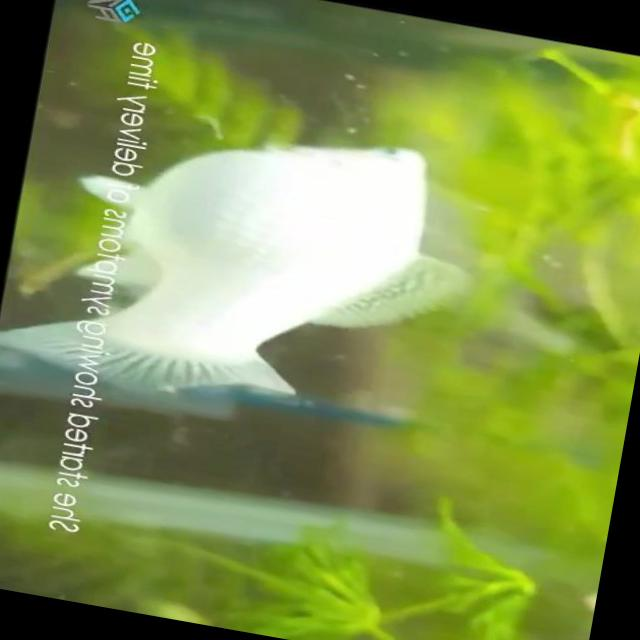PlatyFish: (0, 55, 518, 473)
